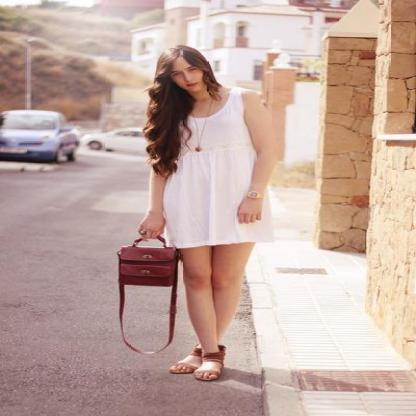bag: (118, 236, 186, 324)
dress: (162, 82, 277, 248)
shoe: (194, 346, 224, 366)
